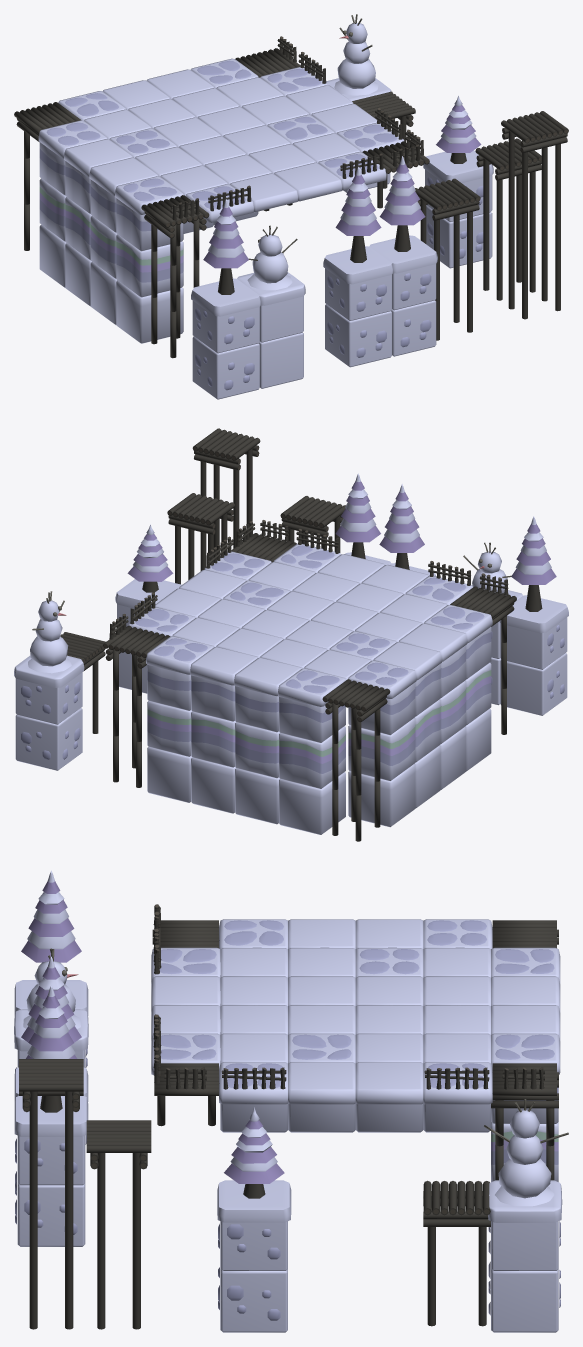
The model's file is StageGroundAssemble_C_SM_A_66.fbx.
The picture shows the model from 3 angles, top to bottom: view 1: azimuth 30°, elevation 25°; view 2: azimuth 150°, elevation 25°; view 3: azimuth 270°, elevation 25°; orthographic projection. The views are drawn at different scales.
Visible parts, largest first — view 1: stage_c_background_deco_sm_005, stage_c_background_deco_sm_005__1_, stage_c_background_deco_sm_005__2_, stage_c_background_deco_sm, stage_c_background_deco_sm_002, stage_c_background_deco_sm_004, stage_c_background_deco_sm_001, stage_c_background_deco_sm_001__1_, stage_c_background_deco_sm_006, stage_c_block_base_sm_002__23_, stage_c_block_base_sm_001__23_, stage_c_block_cover_sm__25_ (+59 smaller); view 2: stage_c_background_deco_sm_006, stage_c_background_deco_sm_005, stage_c_background_deco_sm_002, stage_c_background_deco_sm_004, stage_c_block_base_sm_002__30_, stage_c_block_base_sm_001__30_, stage_c_background_deco_sm_001, stage_c_block_base_sm_002__13_, stage_c_block_base_sm_001__13_, stage_c_block_base_sm__30_, stage_c_block_base_sm_002__29_, stage_c_block_base_sm_002__31_ (+76 smaller); view 3: stage_c_background_deco_sm_006, stage_c_background_deco_sm_004, stage_c_background_deco_sm_005__2_, stage_c_background_deco_sm_002, stage_c_background_deco_sm_001, stage_c_background_deco_sm_003, stage_c_background_deco_sm_005, stage_c_block_cover_sm__7_, stage_c_block_cover_sm__17_, stage_c_background_deco_sm, stage_c_block_cover_sm__6_, stage_c_block_cover_sm__11_ (+54 smaller).
Part boxes in pixels (box(x1,y1,x2,y2)): stage_c_background_deco_sm_005: box(191, 199, 260, 399); stage_c_background_deco_sm_005__1_: box(323, 167, 392, 367); stage_c_background_deco_sm_005__2_: box(369, 156, 437, 356); stage_c_background_deco_sm: box(237, 225, 305, 388); stage_c_background_deco_sm_002: box(501, 111, 568, 319); stage_c_background_deco_sm_004: box(423, 95, 493, 268); stage_c_background_deco_sm_001: box(475, 138, 541, 300); stage_c_background_deco_sm_001__1_: box(415, 178, 480, 340); stage_c_background_deco_sm_006: box(326, 14, 391, 192); stage_c_block_base_sm_002__23_: box(116, 280, 183, 343); stage_c_block_base_sm_001__23_: box(116, 234, 183, 297); stage_c_block_cover_sm__25_: box(274, 162, 342, 201); stage_c_background_deco_sm_006: box(14, 591, 84, 770); stage_c_background_deco_sm_005: box(499, 516, 568, 715); stage_c_background_deco_sm_002: box(192, 428, 260, 570); stage_c_background_deco_sm_004: box(115, 524, 181, 693); stage_c_block_base_sm_002__30_: box(279, 772, 345, 834); stage_c_block_base_sm_001__30_: box(279, 726, 345, 788); stage_c_background_deco_sm_001: box(167, 493, 234, 584); stage_c_block_base_sm_002__13_: box(348, 764, 415, 827); stage_c_block_base_sm_001__13_: box(348, 718, 415, 780); stage_c_block_base_sm__30_: box(279, 697, 345, 742); stage_c_block_base_sm_002__29_: box(147, 747, 192, 802); stage_c_block_base_sm_002__31_: box(235, 768, 279, 824); stage_c_background_deco_sm_006: box(484, 1099, 568, 1332); stage_c_background_deco_sm_004: box(217, 1107, 291, 1332); stage_c_background_deco_sm_005__2_: box(14, 985, 88, 1246); stage_c_background_deco_sm_002: box(19, 1059, 83, 1329); stage_c_background_deco_sm_001: box(86, 1120, 151, 1329); stage_c_background_deco_sm_003: box(423, 1180, 490, 1326); stage_c_background_deco_sm_005: box(14, 870, 88, 1072); stage_c_block_cover_sm__7_: box(355, 1062, 423, 1104); stage_c_block_cover_sm__17_: box(288, 1062, 355, 1104); stage_c_background_deco_sm: box(14, 948, 88, 1144); stage_c_block_cover_sm__6_: box(355, 1033, 423, 1063); stage_c_block_cover_sm__11_: box(423, 1033, 490, 1063).
Bounding box in the file's own units: 3239 × 1626 × 3282.
1 material, 1 textured.
